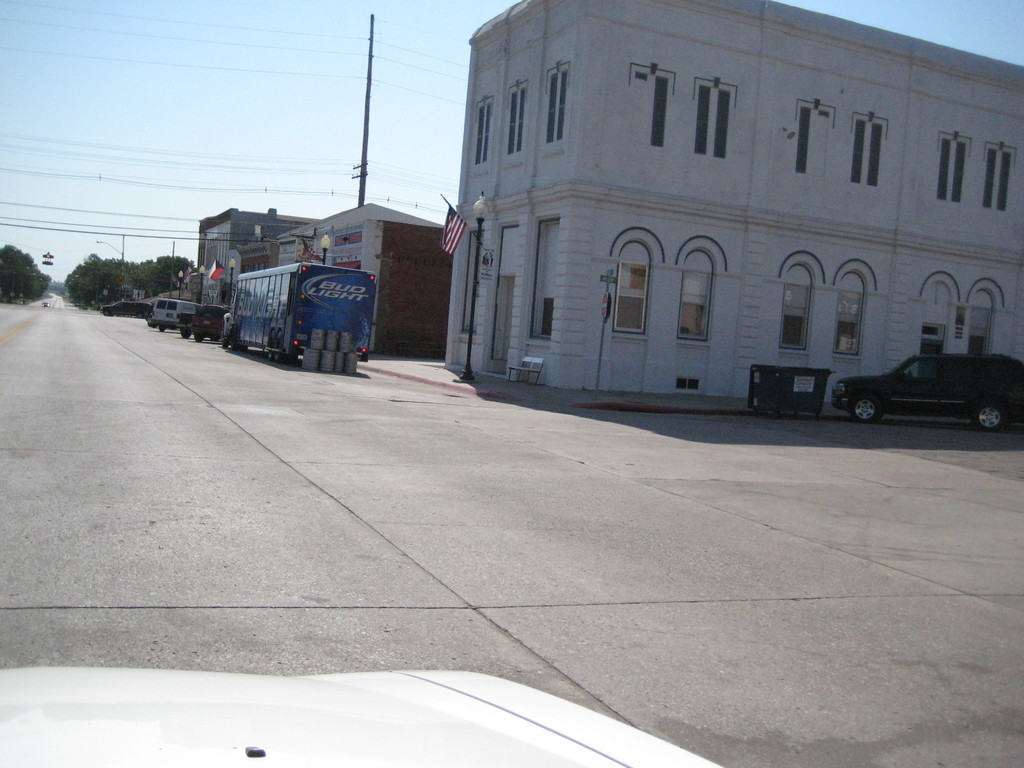Car: (0, 668, 724, 767), (837, 355, 1023, 432), (193, 303, 230, 339), (99, 300, 150, 320), (41, 301, 49, 311)
